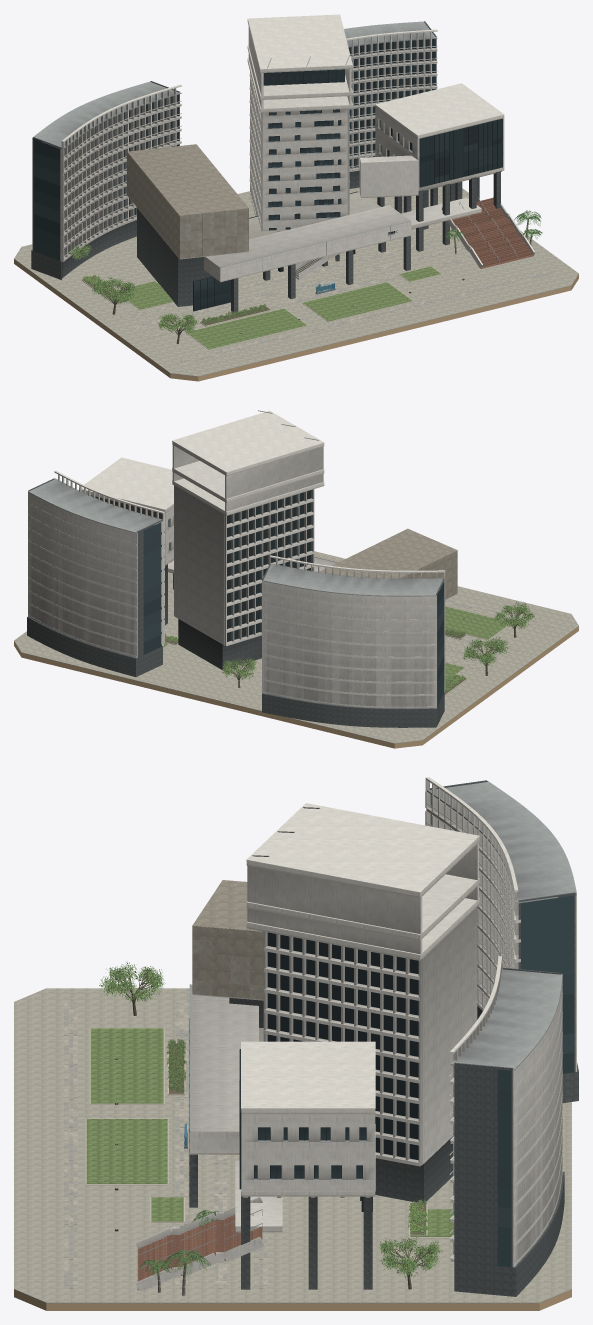
The picture shows the model from 3 angles, top to bottom: view 1: azimuth 30°, elevation 25°; view 2: azimuth 150°, elevation 25°; view 3: azimuth 270°, elevation 25°; orthographic projection. The views are drawn at different scales.
Bounding box in the file's own units: 94.18 × 45.43 × 69.87.
45 materials, 16 textured.
